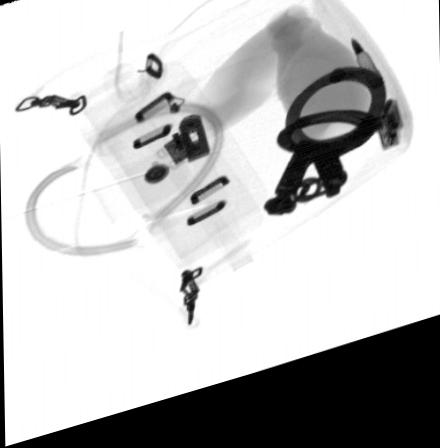Bullet: (349, 58, 386, 113)
HandCuffs: (260, 85, 385, 231)
